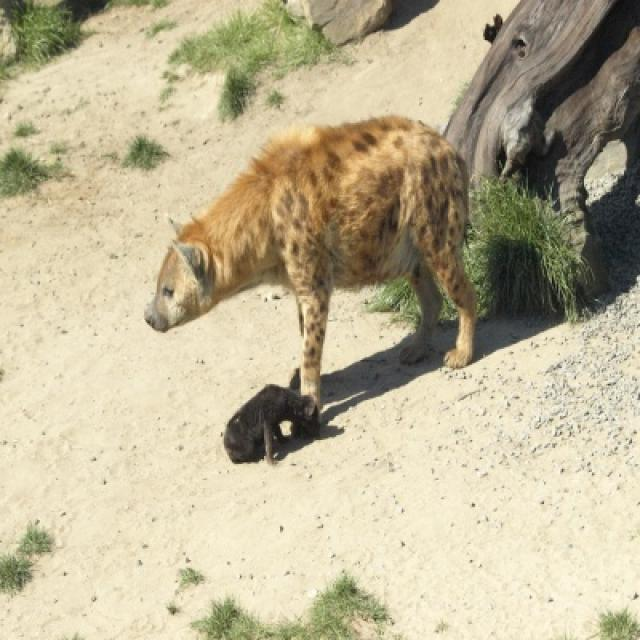hyena: (144, 117, 475, 461)
